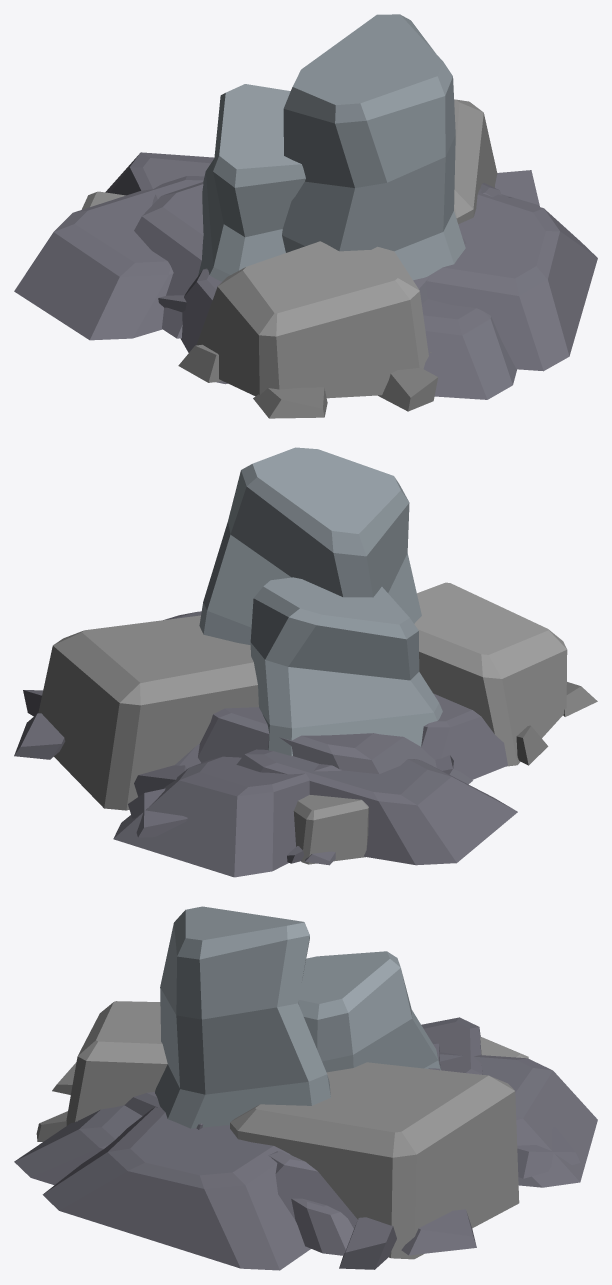
File: RockPatch#1.fbx
The picture shows the model from 3 angles, top to bottom: view 1: azimuth 30°, elevation 25°; view 2: azimuth 150°, elevation 25°; view 3: azimuth 270°, elevation 25°; orthographic projection. The views are drawn at different scales.
Visible parts, largest first — view 1: RockPatch#1; view 2: RockPatch#1; view 3: RockPatch#1.
Part boxes in pixels (x1,y1,x2,y2): RockPatch#1: (14,14,597,418); RockPatch#1: (14,447,597,877); RockPatch#1: (14,906,597,1270).
Bounding box in the file's own units: 2088 × 1145 × 2267.
